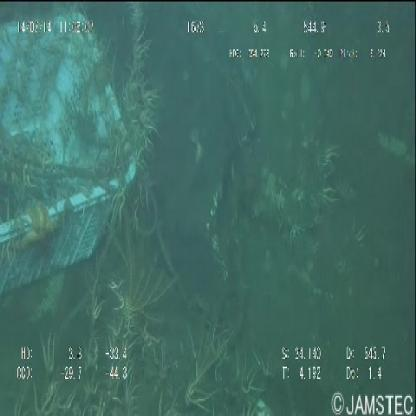Rác: (1, 1, 147, 298)
